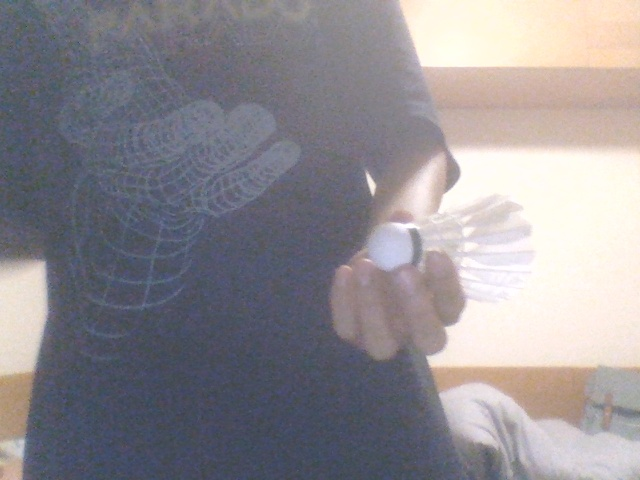human: (1, 1, 461, 480)
shuttle: (368, 195, 535, 307)
